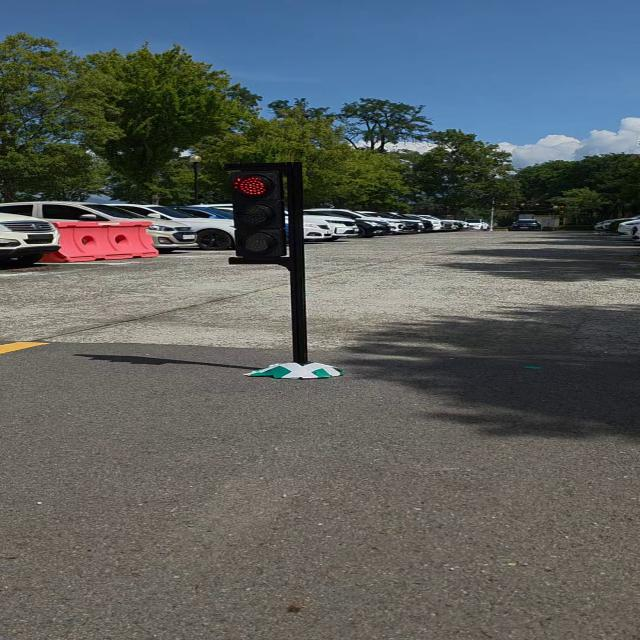red: (218, 164, 316, 265)
